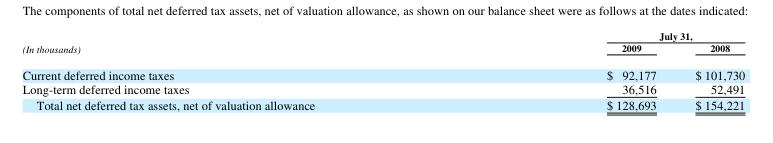table: (21, 28, 744, 112)
table column: (21, 28, 460, 112), (460, 28, 675, 112), (675, 28, 744, 112)
table column header: (21, 28, 744, 60)
table row: (21, 60, 744, 81), (21, 41, 744, 60), (21, 96, 744, 112), (21, 81, 744, 96), (21, 28, 744, 41)
table spanning cell: (21, 28, 460, 60), (460, 28, 744, 41)
